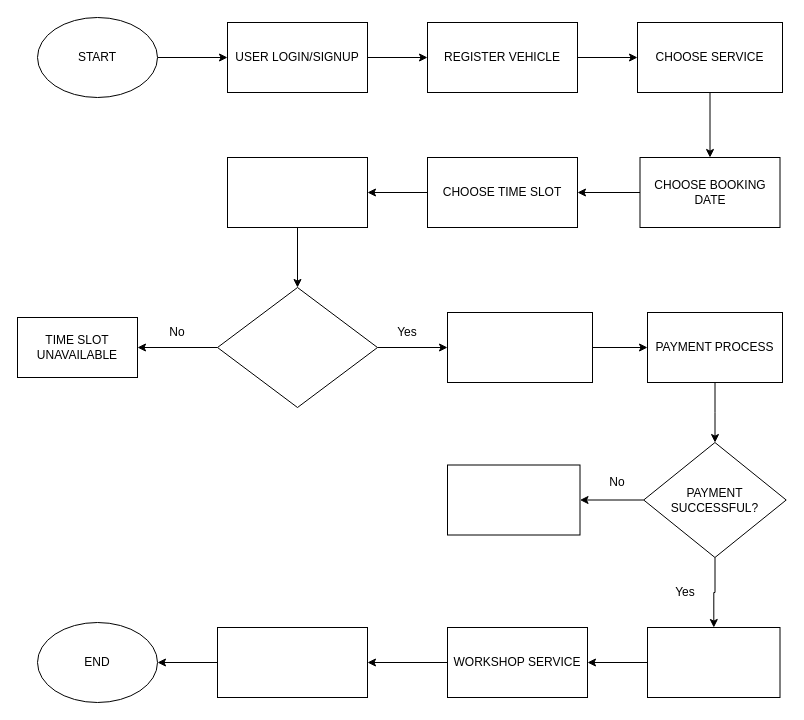
Some shapes in this 804 by 720 pixel diagram are drawn without their labels. Each missing label, with the centre of its shape:
"BOOKING COMPLETED" goes at [292,662].
"BOOKING CONFIRMED" goes at [713,662].
"CHECK SLOT AVAILABILITY" goes at [297,192].
"CREATE BOOKING" goes at [519,347].
"PAYMENT PENDING" goes at [513,499].
"SLOT AVAILABLE?" goes at [297,347].
